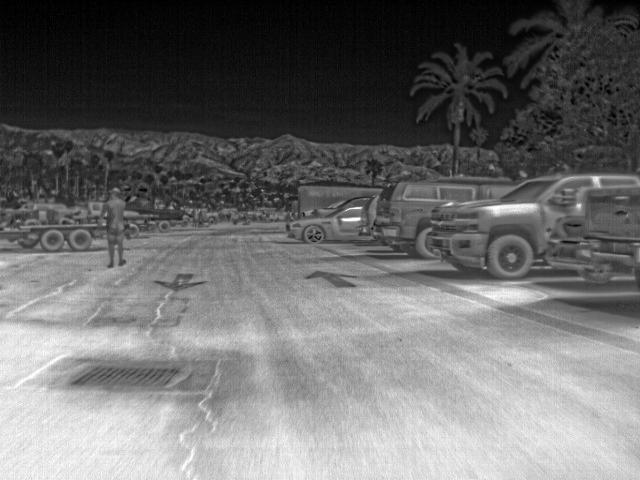car: (431, 170, 639, 278), (377, 180, 516, 261), (578, 183, 638, 270), (287, 207, 366, 247), (544, 213, 584, 268), (358, 197, 379, 241)
person: (102, 185, 126, 270)
